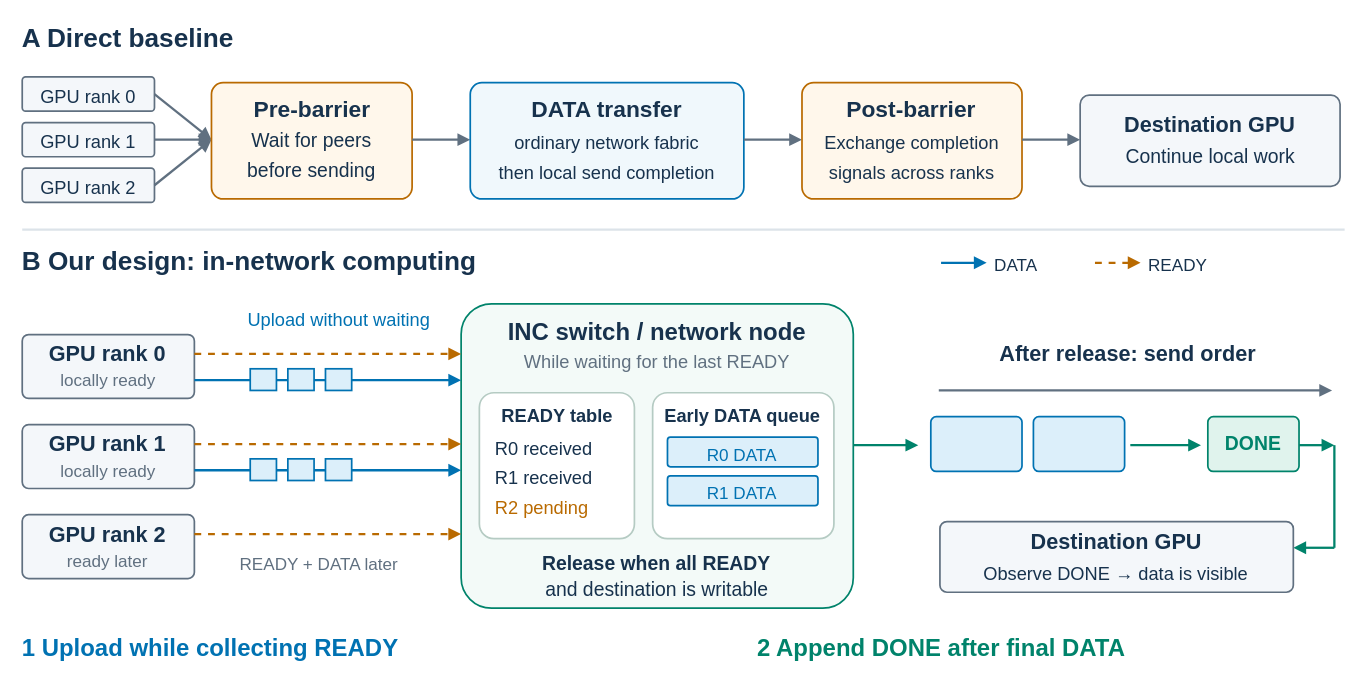
The diagram is 1366 pixels wide and 683 high, and some of its shapes have lost their labels. Each missing label, with the centre of its shape:
"DATA 1" belongs at point (975, 443).
"DATA N" belongs at point (1078, 443).
